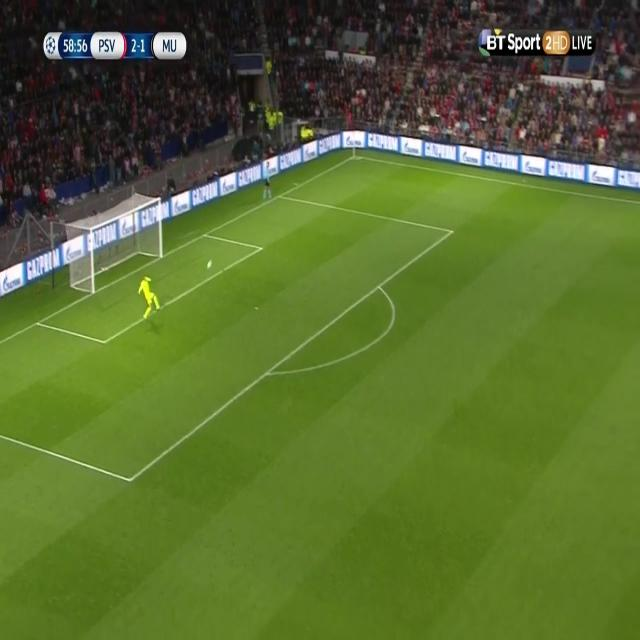Ball: (205, 257, 214, 271)
Goalkeeper: (136, 271, 162, 323)
Referee: (262, 157, 273, 204)
